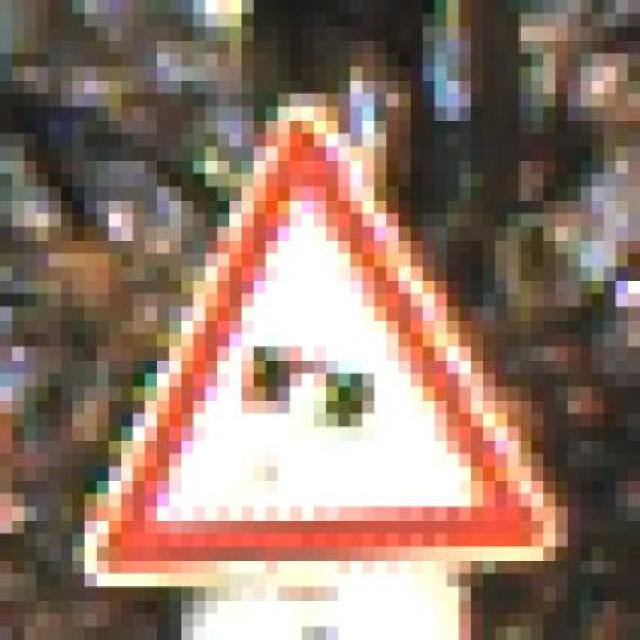Slippery Road Ahead: (72, 79, 580, 587)
